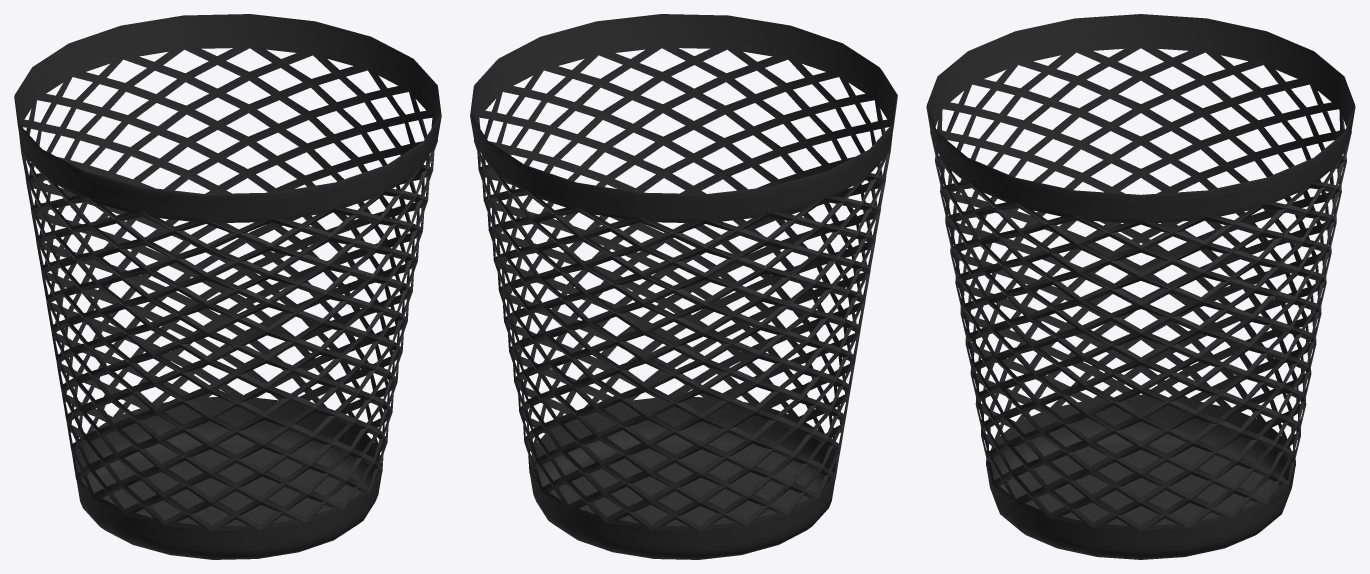
Rendered from paper_waste_bin.glb.
3 renders of one model, left to right at view 1: azimuth 30°, elevation 25°; view 2: azimuth 150°, elevation 25°; view 3: azimuth 270°, elevation 25°, orthographic.
Visible parts, largest first — view 1: pCylinder4; view 2: pCylinder4; view 3: pCylinder4.
Part boxes in pixels (box(x1,y1,x2,y2)): pCylinder4: box(14, 14, 441, 559); pCylinder4: box(470, 14, 897, 559); pCylinder4: box(926, 14, 1355, 559).
Bounding box in the file's own units: 53 × 54.15 × 53.
Materials: 1 (1 with a texture image).
